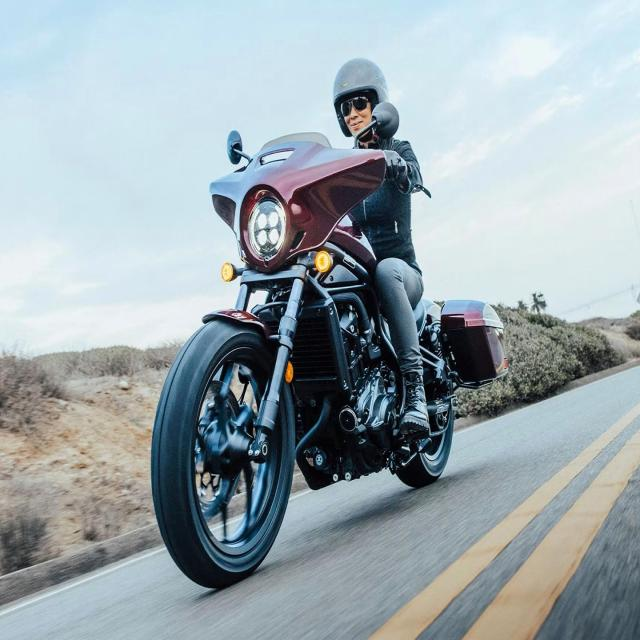motorcycle: (151, 58, 508, 588)
